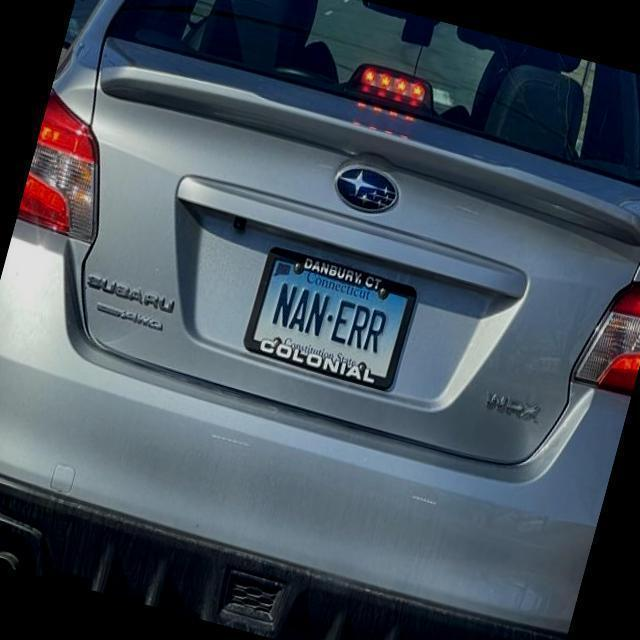license-plate: (257, 243, 407, 396)
